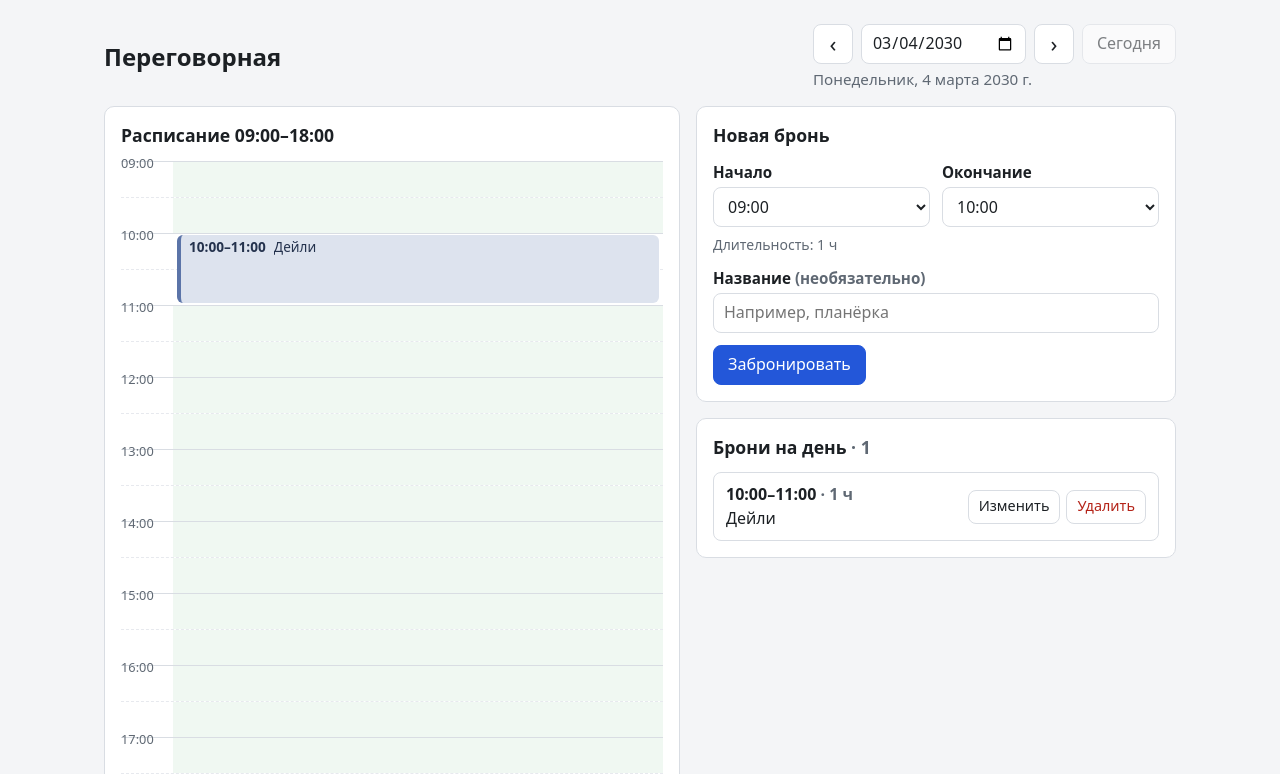
Scenario: BookingPage › prefills the form from a free timeline slot
This screenshot has width=1280, height=774.
Expected: the text "Дейли" below "Брони на день" is shown, [726, 507, 776, 529]
Click the button named "Выбрать время с 14:00" at [418, 539], box [173, 522, 663, 556]
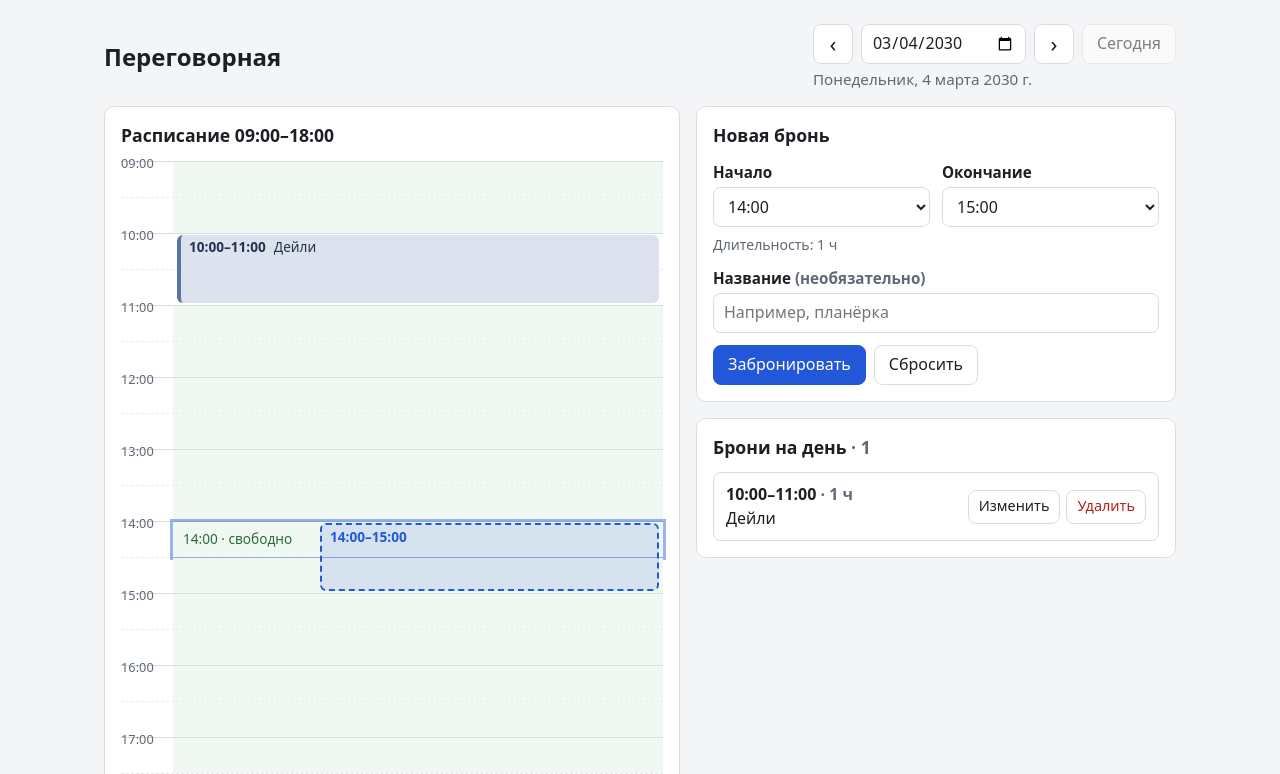
Result: the dropdown labelled "Начало" shows "14:00" at [713, 187, 930, 227]
Result: the dropdown labelled "Окончание" shows "15:00" at [942, 187, 1159, 227]
Click the button named "Выбрать время с 09:30" at [418, 215], box [173, 198, 663, 232]
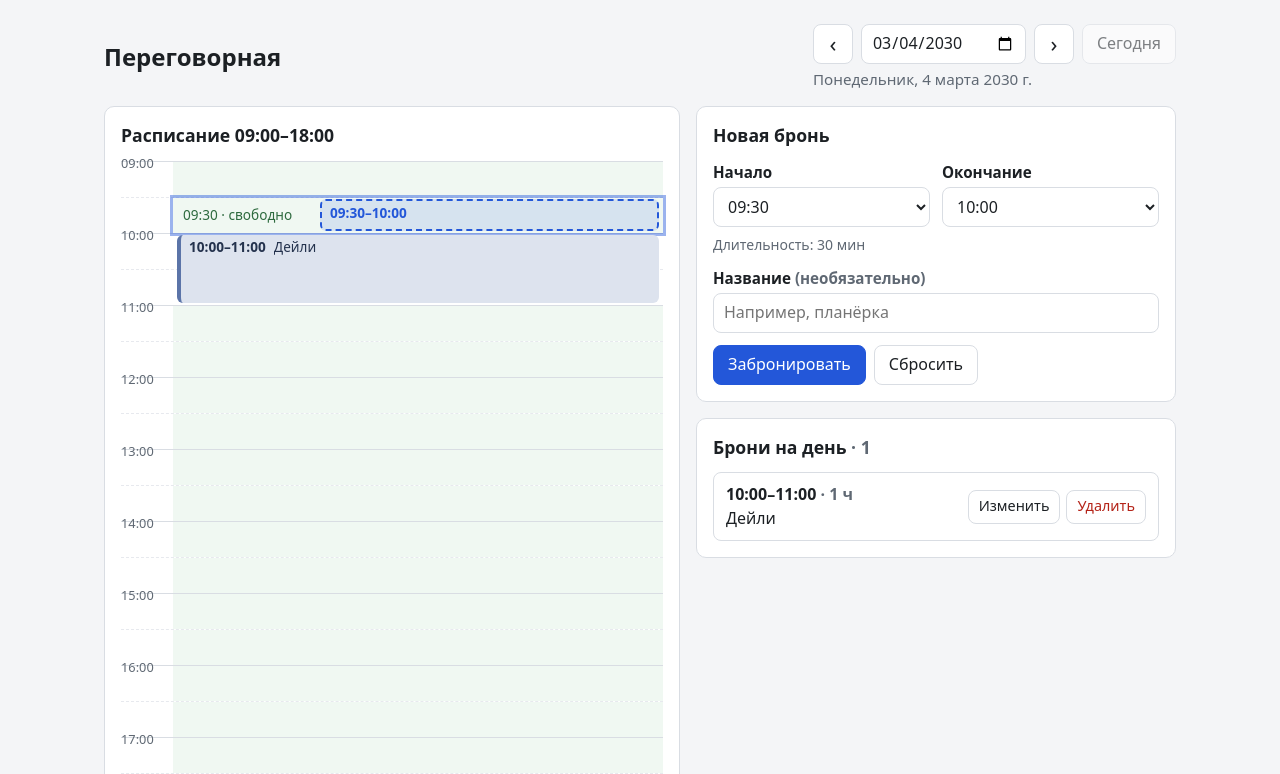
Result: the dropdown labelled "Начало" shows "09:30" at [713, 187, 930, 227]
Result: the dropdown labelled "Окончание" shows "10:00" at [942, 187, 1159, 227]
